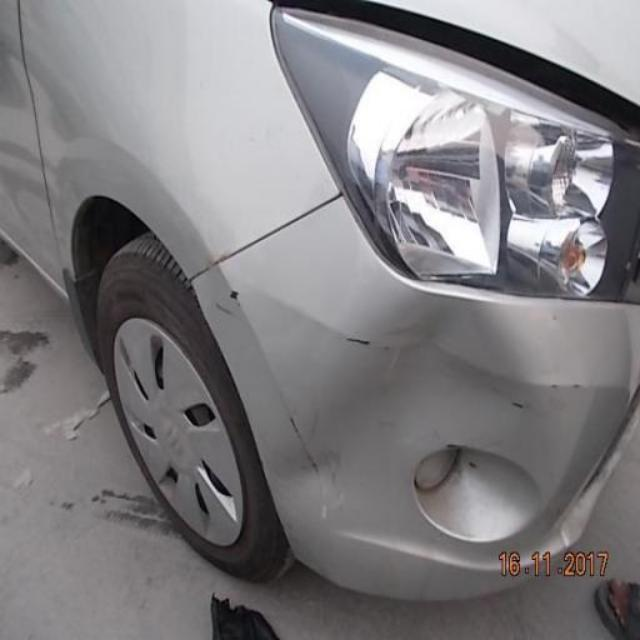dent: (281, 289, 559, 505)
dislocated part: (267, 0, 639, 139)
